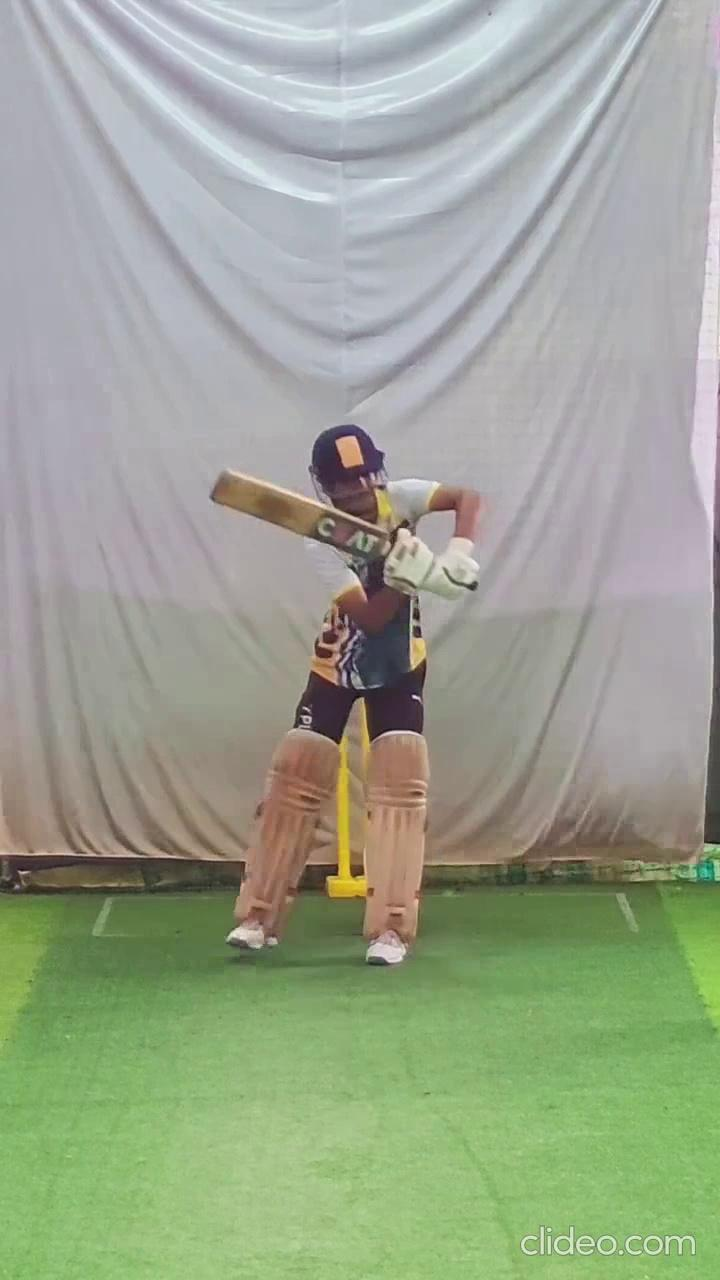bat: (205, 463, 391, 567)
